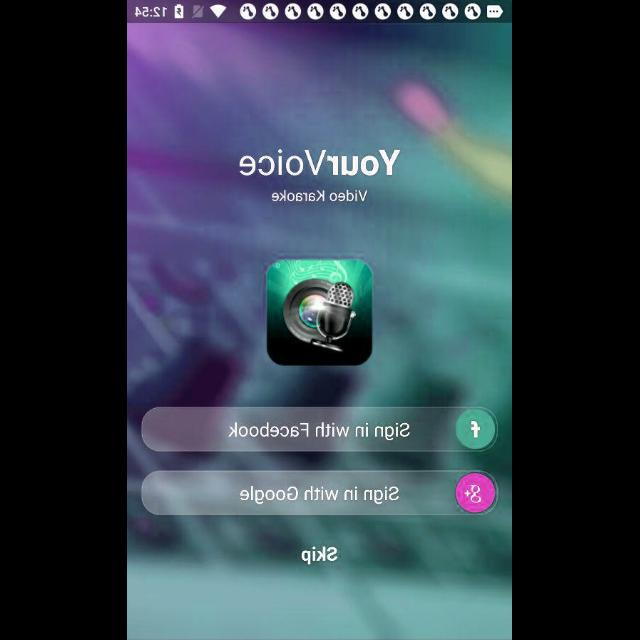image: (266, 260, 374, 366)
text: (240, 150, 400, 177), (272, 190, 368, 202), (302, 546, 338, 564)
textbutton: (142, 470, 498, 516), (142, 406, 498, 452)
uppertaskbar: (128, 1, 512, 23)
